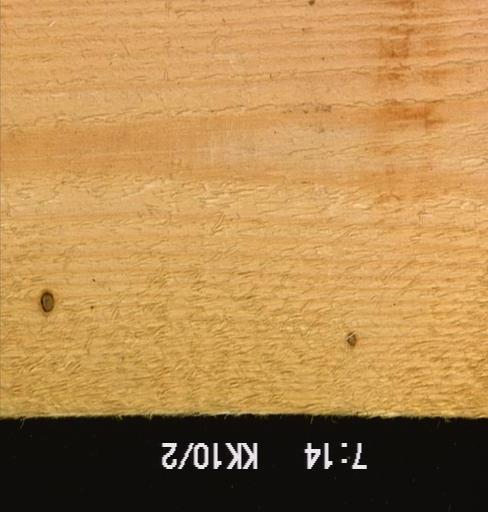dry_knot: (39, 289, 55, 314), (345, 331, 356, 348)
